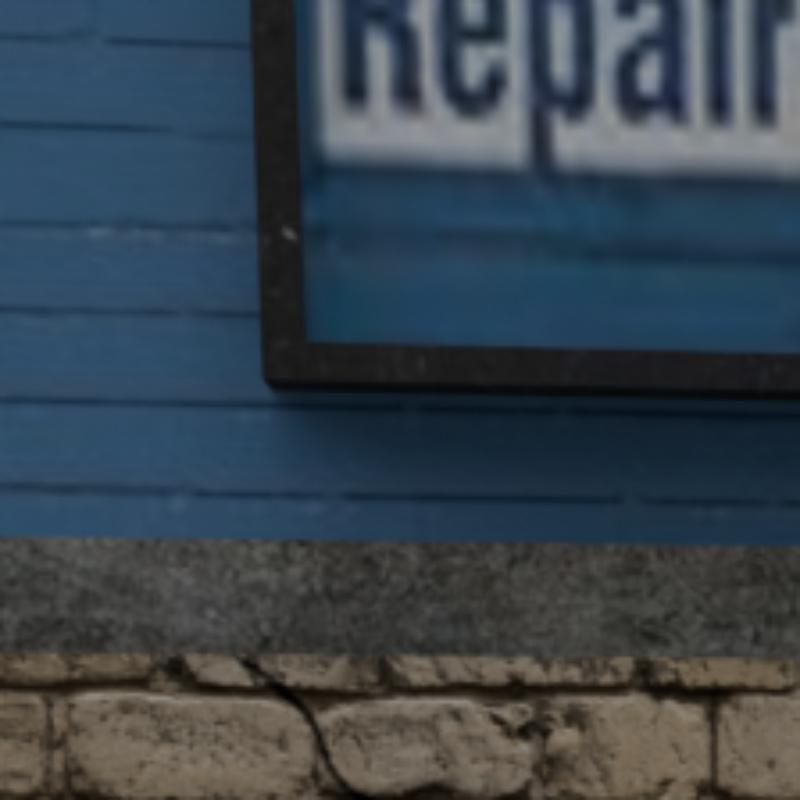pothole: (236, 657, 371, 796)
